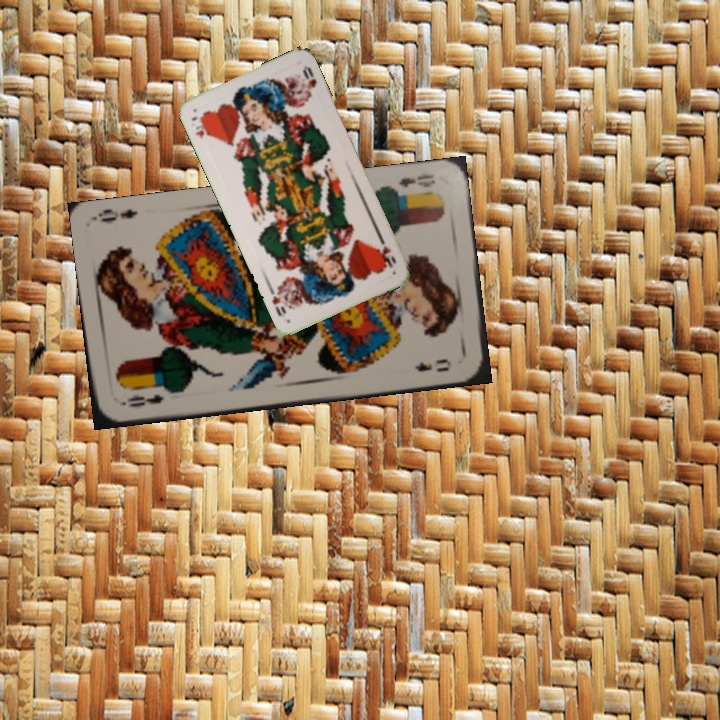EO: (383, 170, 438, 198), (116, 390, 166, 410)
HO: (375, 233, 399, 270), (187, 112, 213, 141)
